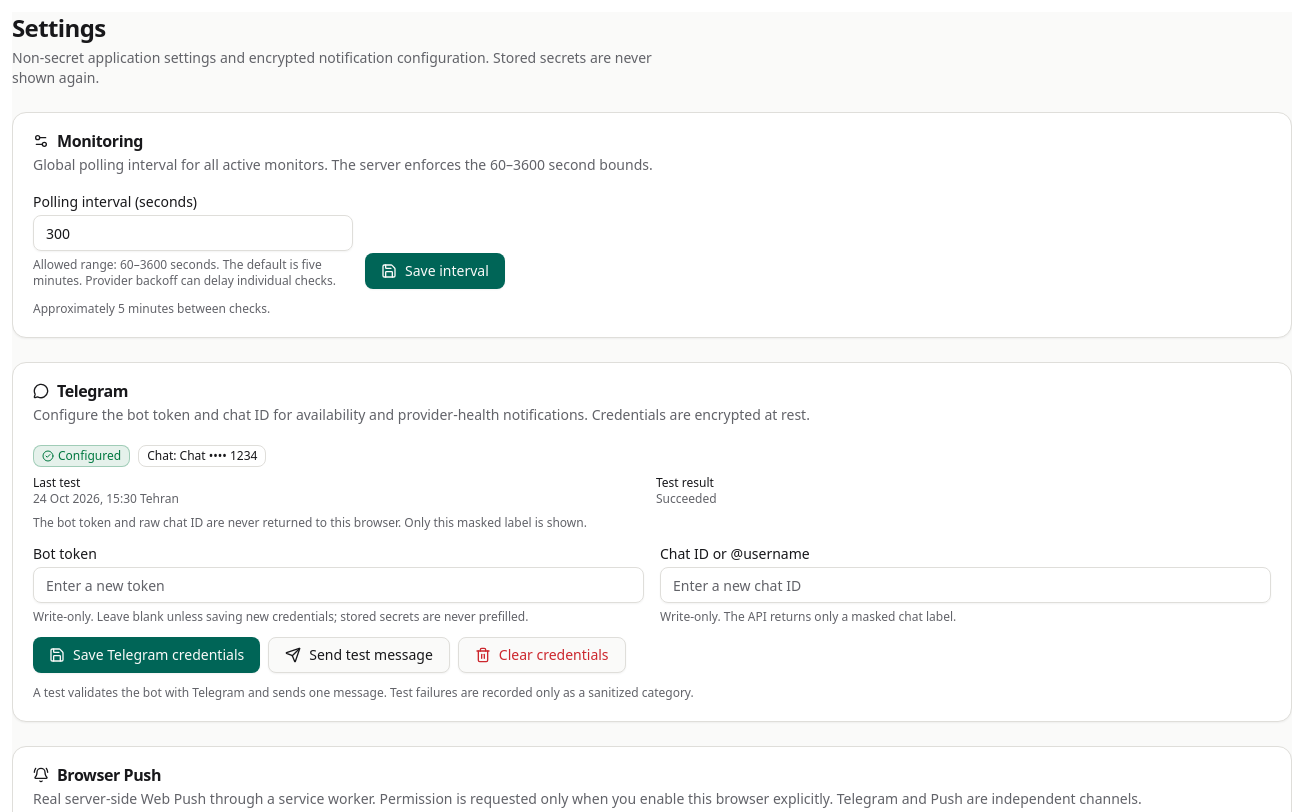
Test: SettingsPage › requires both Telegram fields before saving
Check: the password field labelled "Bot token" is shown, box [33,567,644,603]
Click the button "Save Telegram credentials" at (147, 655), box [33,637,260,673]
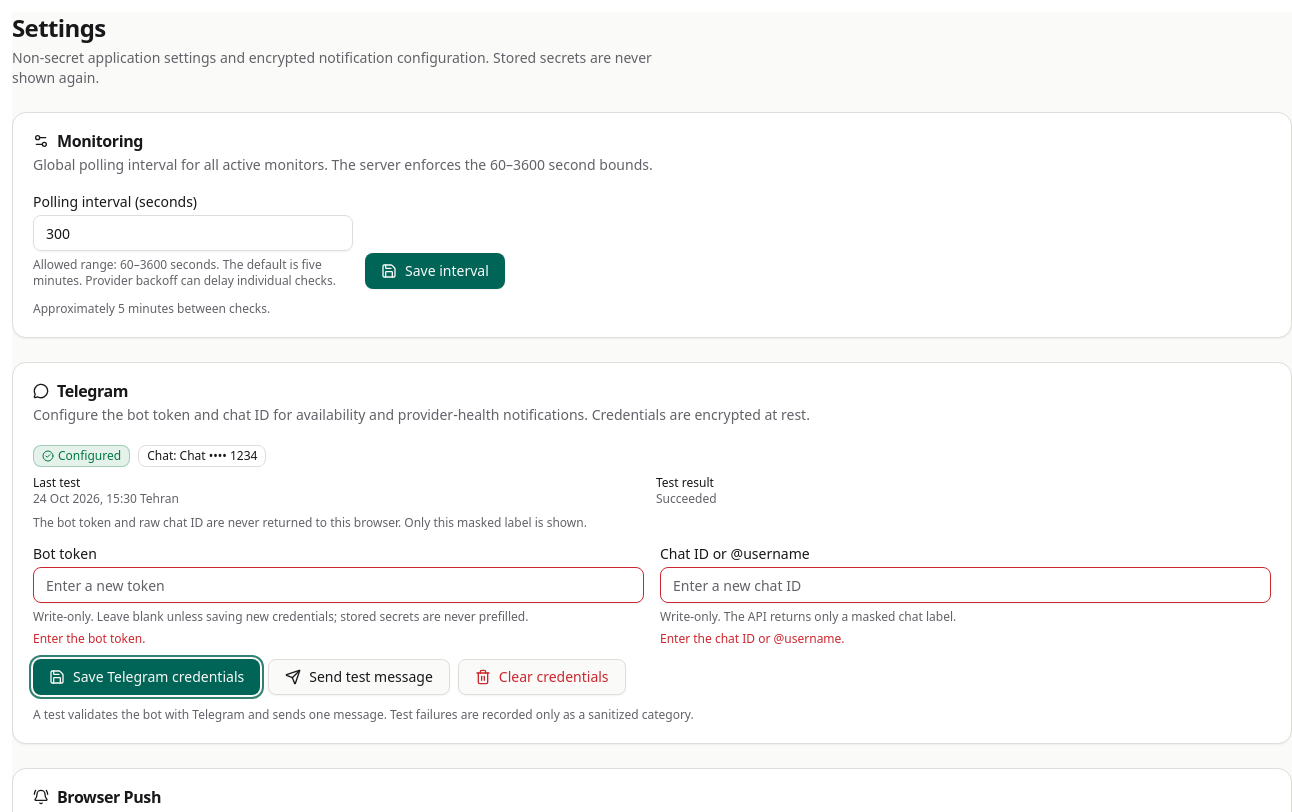
Check: the text "Enter the bot token." is shown, box [33,630,145,647]
Check: the text "Enter the chat ID or @username." is shown, box [660,630,845,647]
